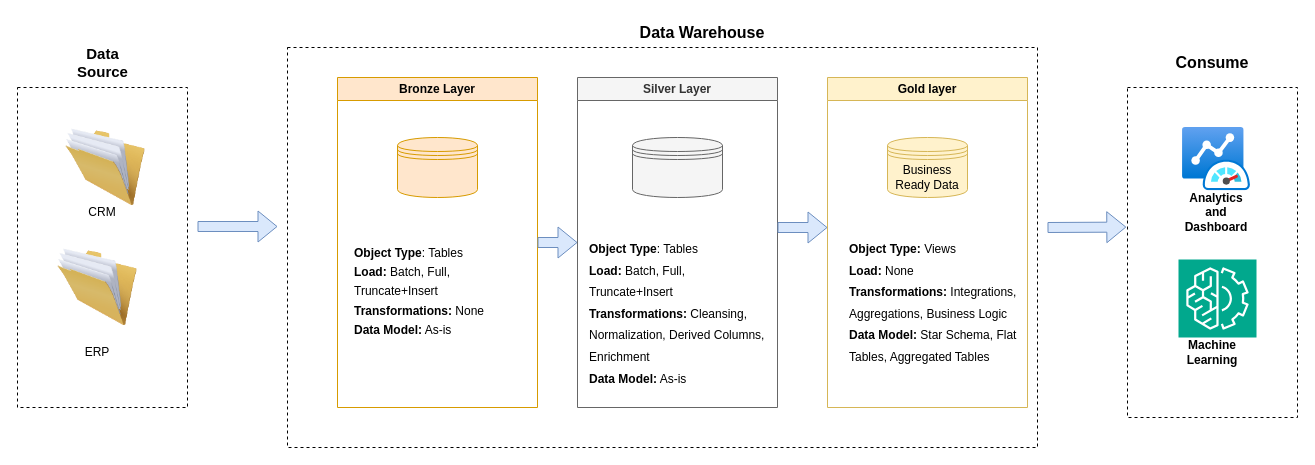
This 1315x465 diagram has some shape labels left out. Each missing label, with the centre of its shape:
"Cleaned and Standardized Data" belongs at pixel 677 167.
"Raw Data" belongs at pixel 437 167.
